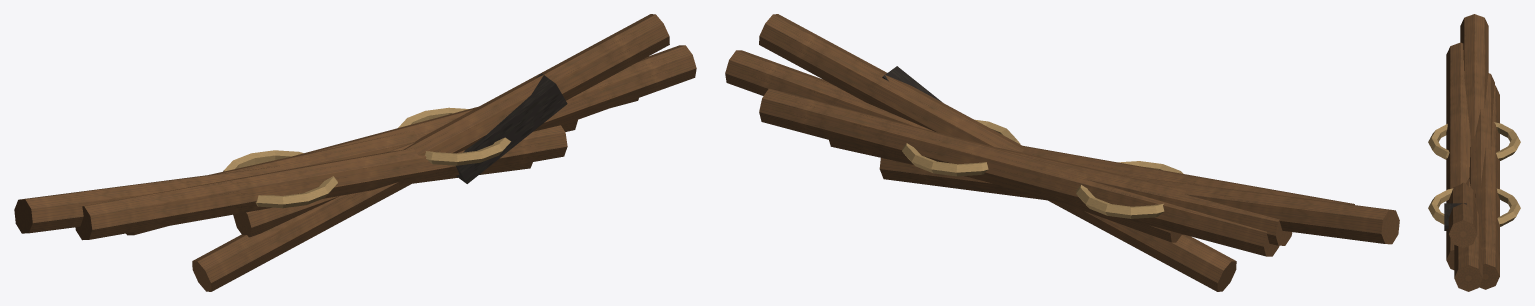
Rendered from pr-003_wood_poles_bundle__damaged.obj.
3 renders of one model, left to right at view 1: azimuth 30°, elevation 25°; view 2: azimuth 150°, elevation 25°; view 3: azimuth 270°, elevation 25°, orthographic. The views are drawn at different scales.
Visible parts, largest first — view 1: pr-003_wood_poles_bundle__damaged; view 2: pr-003_wood_poles_bundle__damaged; view 3: pr-003_wood_poles_bundle__damaged.
Part boxes in pixels (x1,y1,x2,y2): pr-003_wood_poles_bundle__damaged: (14,14,696,291); pr-003_wood_poles_bundle__damaged: (725,14,1399,291); pr-003_wood_poles_bundle__damaged: (1428,14,1520,291).
Size of the model in its own units: 1.87 by 0.4504 by 0.292.
Materials: 3 (3 with a texture image).
